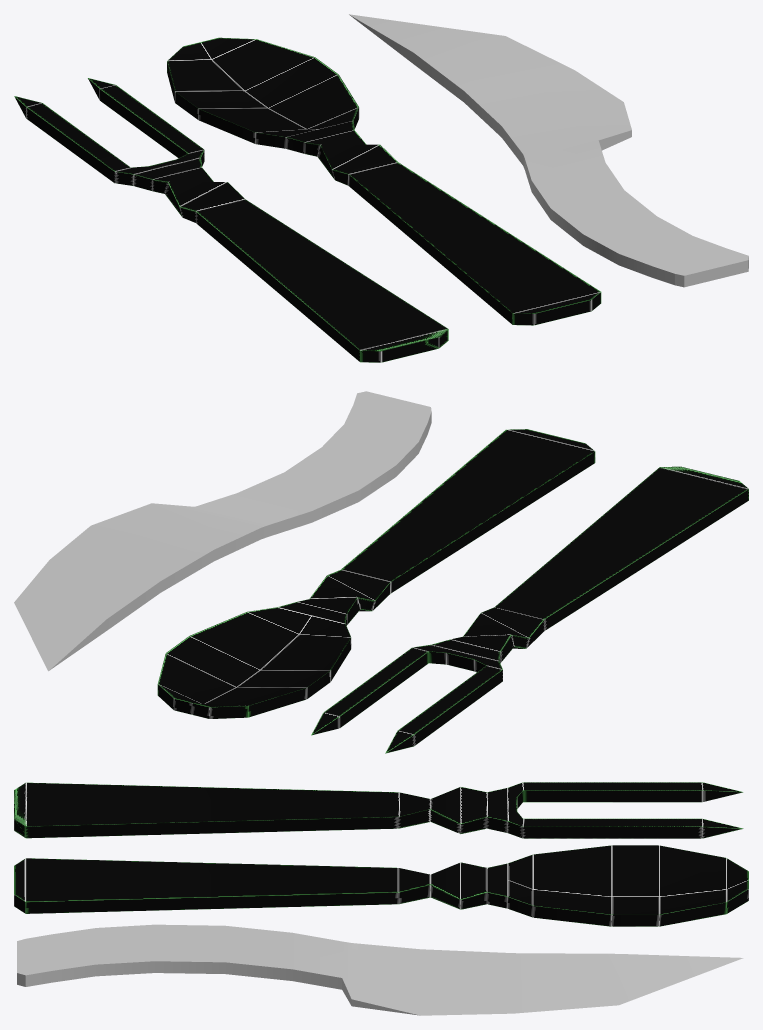
File: Silverware.FBX
3 renders of one model, top to bottom at view 1: azimuth 30°, elevation 25°; view 2: azimuth 150°, elevation 25°; view 3: azimuth 270°, elevation 25°, orthographic.
Visible parts, largest first — view 1: pCube2, pCube3, pCube1; view 2: pCube2, pCube3, pCube1; view 3: pCube2, pCube3, pCube1.
Part boxes in pixels (bbox=[...]): pCube2: bbox=[167, 37, 601, 325]; pCube3: bbox=[349, 14, 748, 287]; pCube1: bbox=[14, 78, 448, 362]; pCube2: bbox=[157, 429, 595, 718]; pCube3: bbox=[14, 391, 431, 671]; pCube1: bbox=[311, 466, 748, 753]; pCube2: bbox=[14, 845, 748, 926]; pCube3: bbox=[17, 924, 743, 1015]; pCube1: bbox=[14, 782, 743, 838].
Size of the model in its own units: 22.49 by 1.63 by 30.69.
